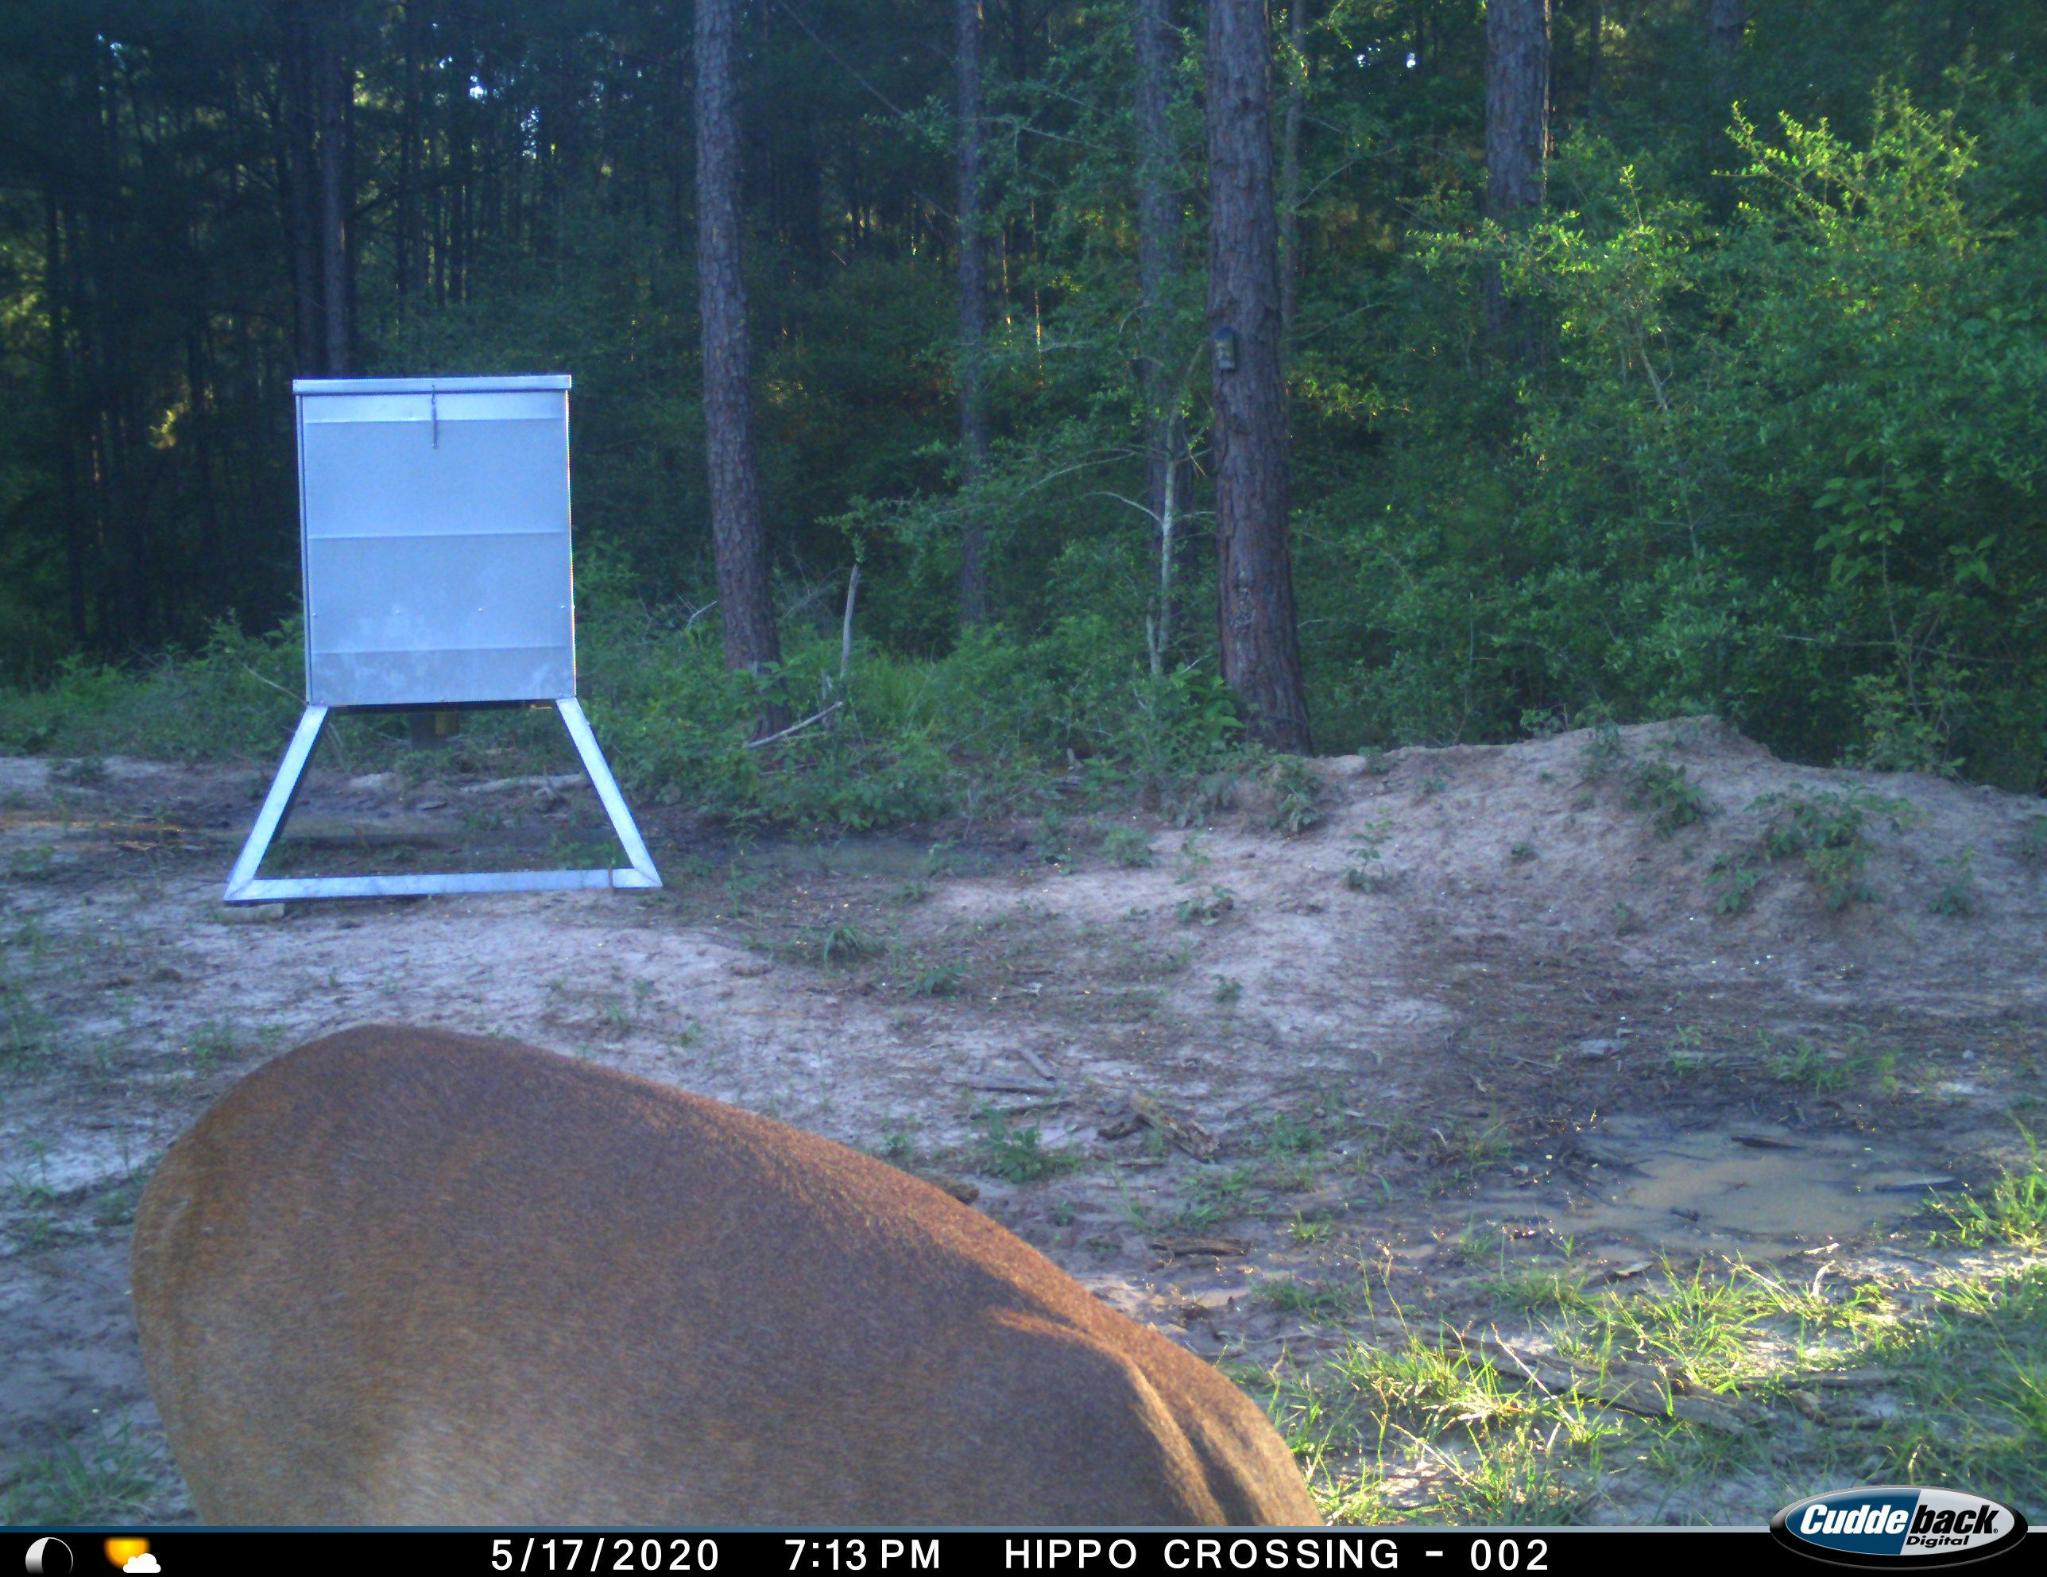Deer: (114, 997, 1371, 1537)
